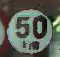Speed limit: (6, 2, 54, 53)
